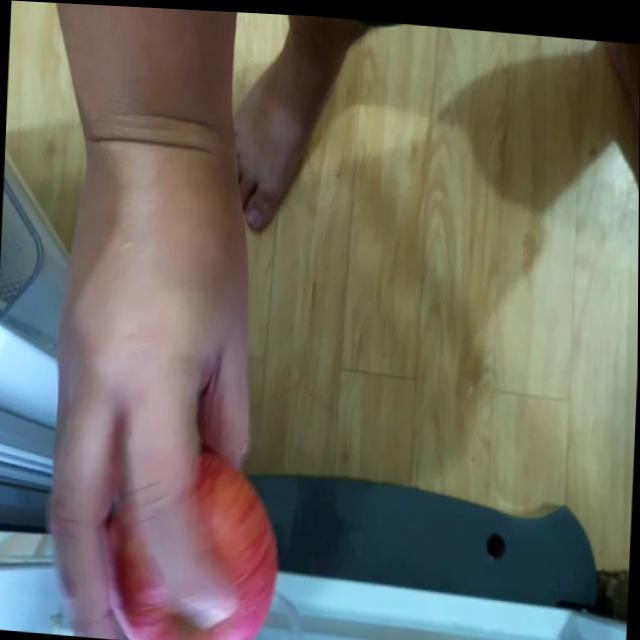apple: (107, 439, 281, 640)
